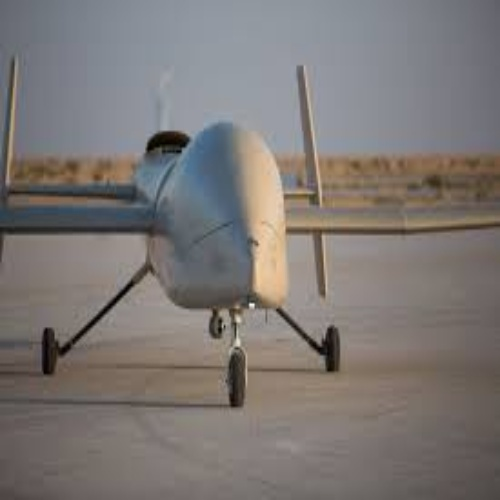uav: (7, 55, 497, 407)
